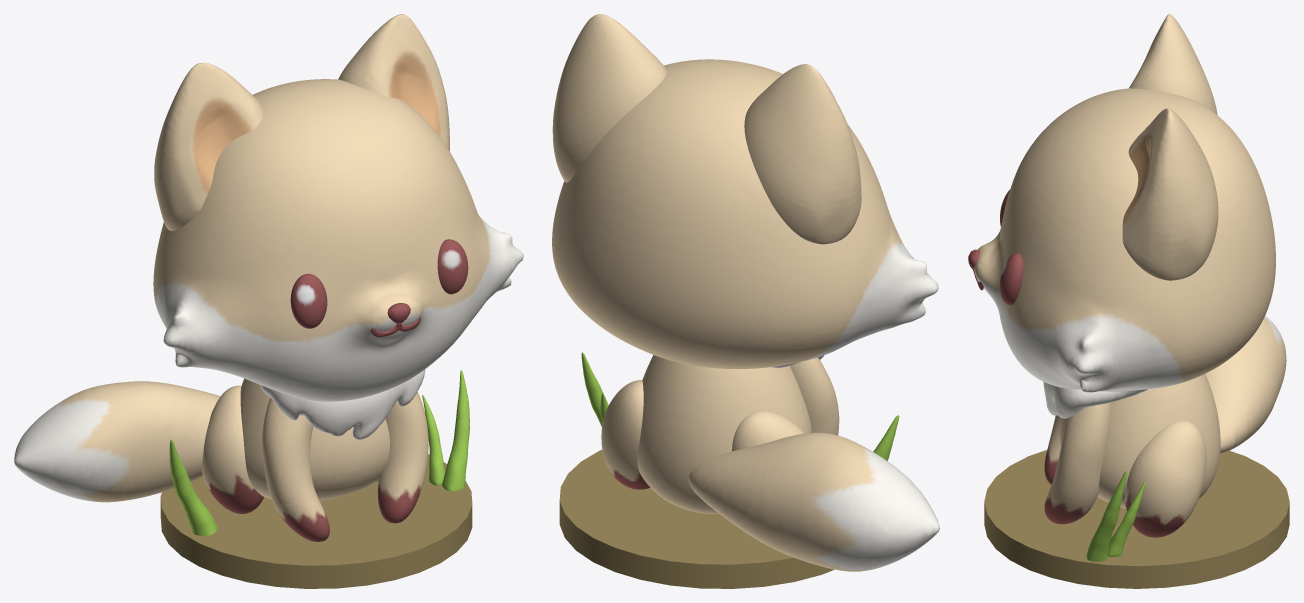
File: cute_fox.glb
The picture shows the model from 3 angles, left to right: view 1: azimuth 30°, elevation 25°; view 2: azimuth 150°, elevation 25°; view 3: azimuth 270°, elevation 25°; orthographic projection. The views are drawn at different scales.
Parts seen in each view (by area): view 1: Object_15, Object_25, Object_7, Object_9, Object_17, Object_29, Object_27, Object_5, Object_11, Object_23, Object_21, Object_19; view 2: Object_15, Object_9, Object_7, Object_25, Object_29, Object_27, Object_17, Object_23; view 3: Object_15, Object_25, Object_9, Object_29, Object_27, Object_7, Object_17, Object_5, Object_23, Object_11, Object_19.
Part boxes in pixels (x1,y1,x2,y2): Object_15: [153, 79, 523, 401]; Object_25: [160, 454, 472, 588]; Object_7: [14, 381, 220, 502]; Object_9: [154, 14, 449, 230]; Object_17: [262, 392, 428, 541]; Object_29: [240, 378, 389, 500]; Object_27: [202, 385, 377, 513]; Object_5: [259, 369, 425, 439]; Object_11: [290, 239, 468, 328]; Object_23: [442, 370, 469, 491]; Object_21: [169, 439, 216, 535]; Object_19: [422, 395, 444, 485]; Object_15: [552, 59, 938, 368]; Object_9: [552, 14, 861, 244]; Object_7: [688, 432, 939, 571]; Object_25: [559, 450, 833, 588]; Object_29: [637, 355, 811, 513]; Object_27: [601, 380, 804, 489]; Object_17: [790, 357, 839, 435]; Object_23: [581, 352, 608, 426]; Object_15: [974, 88, 1275, 392]; Object_25: [984, 450, 1289, 588]; Object_9: [1122, 14, 1218, 280]; Object_29: [1059, 374, 1220, 508]; Object_27: [1125, 420, 1206, 537]; Object_7: [1205, 316, 1286, 453]; Object_17: [1044, 402, 1112, 524]; Object_5: [1043, 381, 1147, 418]; Object_23: [1086, 470, 1126, 561]; Object_11: [1000, 190, 1023, 305]; Object_19: [1108, 481, 1145, 556].
Size of the model in its own units: 3.53 by 3.67 by 2.31.
